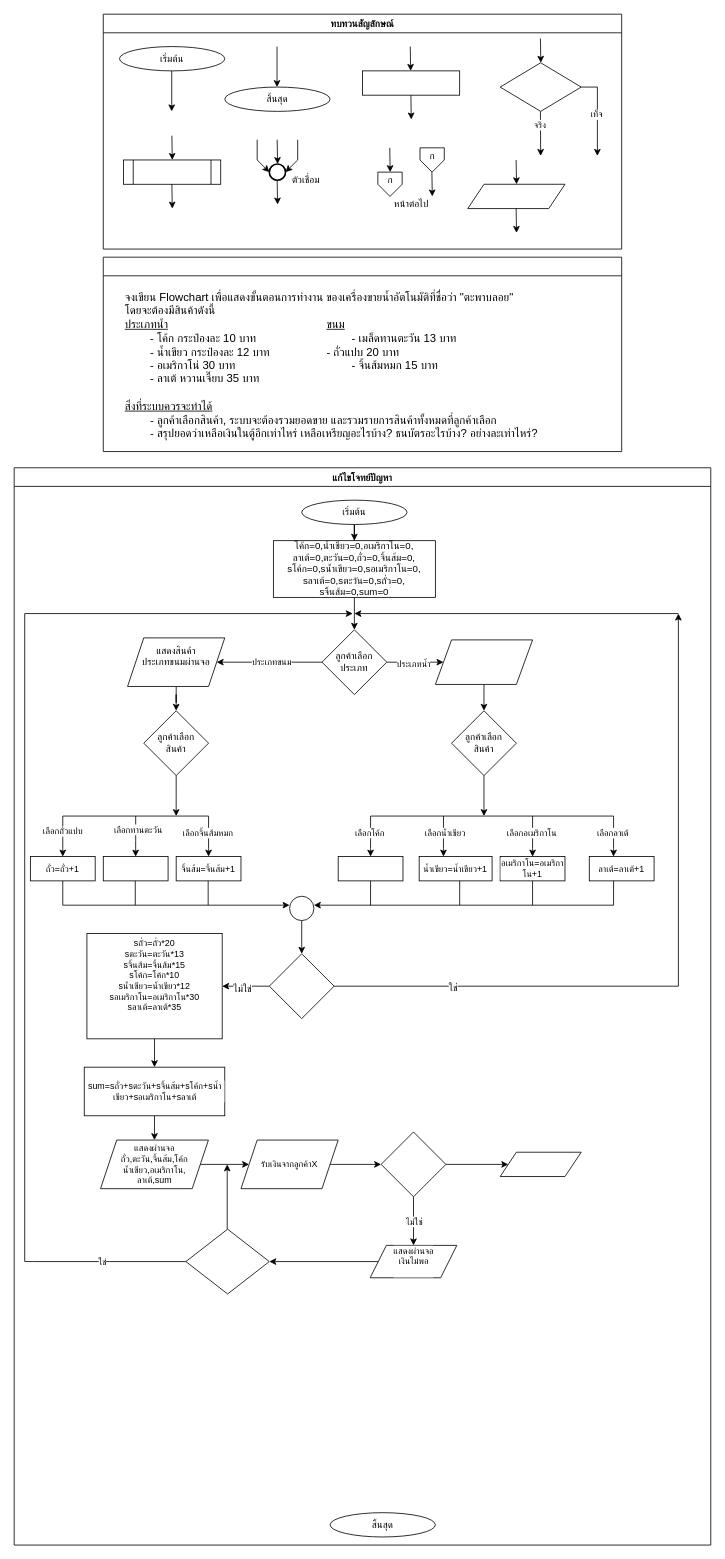
Image size: 725x1559. Some labels were removed from this diagram. The box of each missing label's shape, as (x1, y1, x2, y2) in pixels:
x=>sum: (380, 1131, 446, 1197)
กระบวนการ: (362, 70, 460, 95)
ตะวัน=ตะวัน+1: (102, 856, 168, 881)
ประโยคเงื่อนไข: (499, 62, 581, 111)
ฟังก์ชัน/โมดูล: (123, 159, 221, 184)
ยกเลิกรายการ หรือไม่: (185, 1228, 269, 1294)
ลูกค้าซื้อเพิ่ม หรือไม่: (269, 953, 334, 1019)
แสดงผล/รับค่า: (467, 183, 565, 209)
แสดงสินค้า ประเภทน้ำผ่านจอ: (435, 639, 533, 684)
โค้ก = โค้ก +1: (337, 856, 403, 881)
โจทย์ปัญหา: (102, 256, 622, 452)
